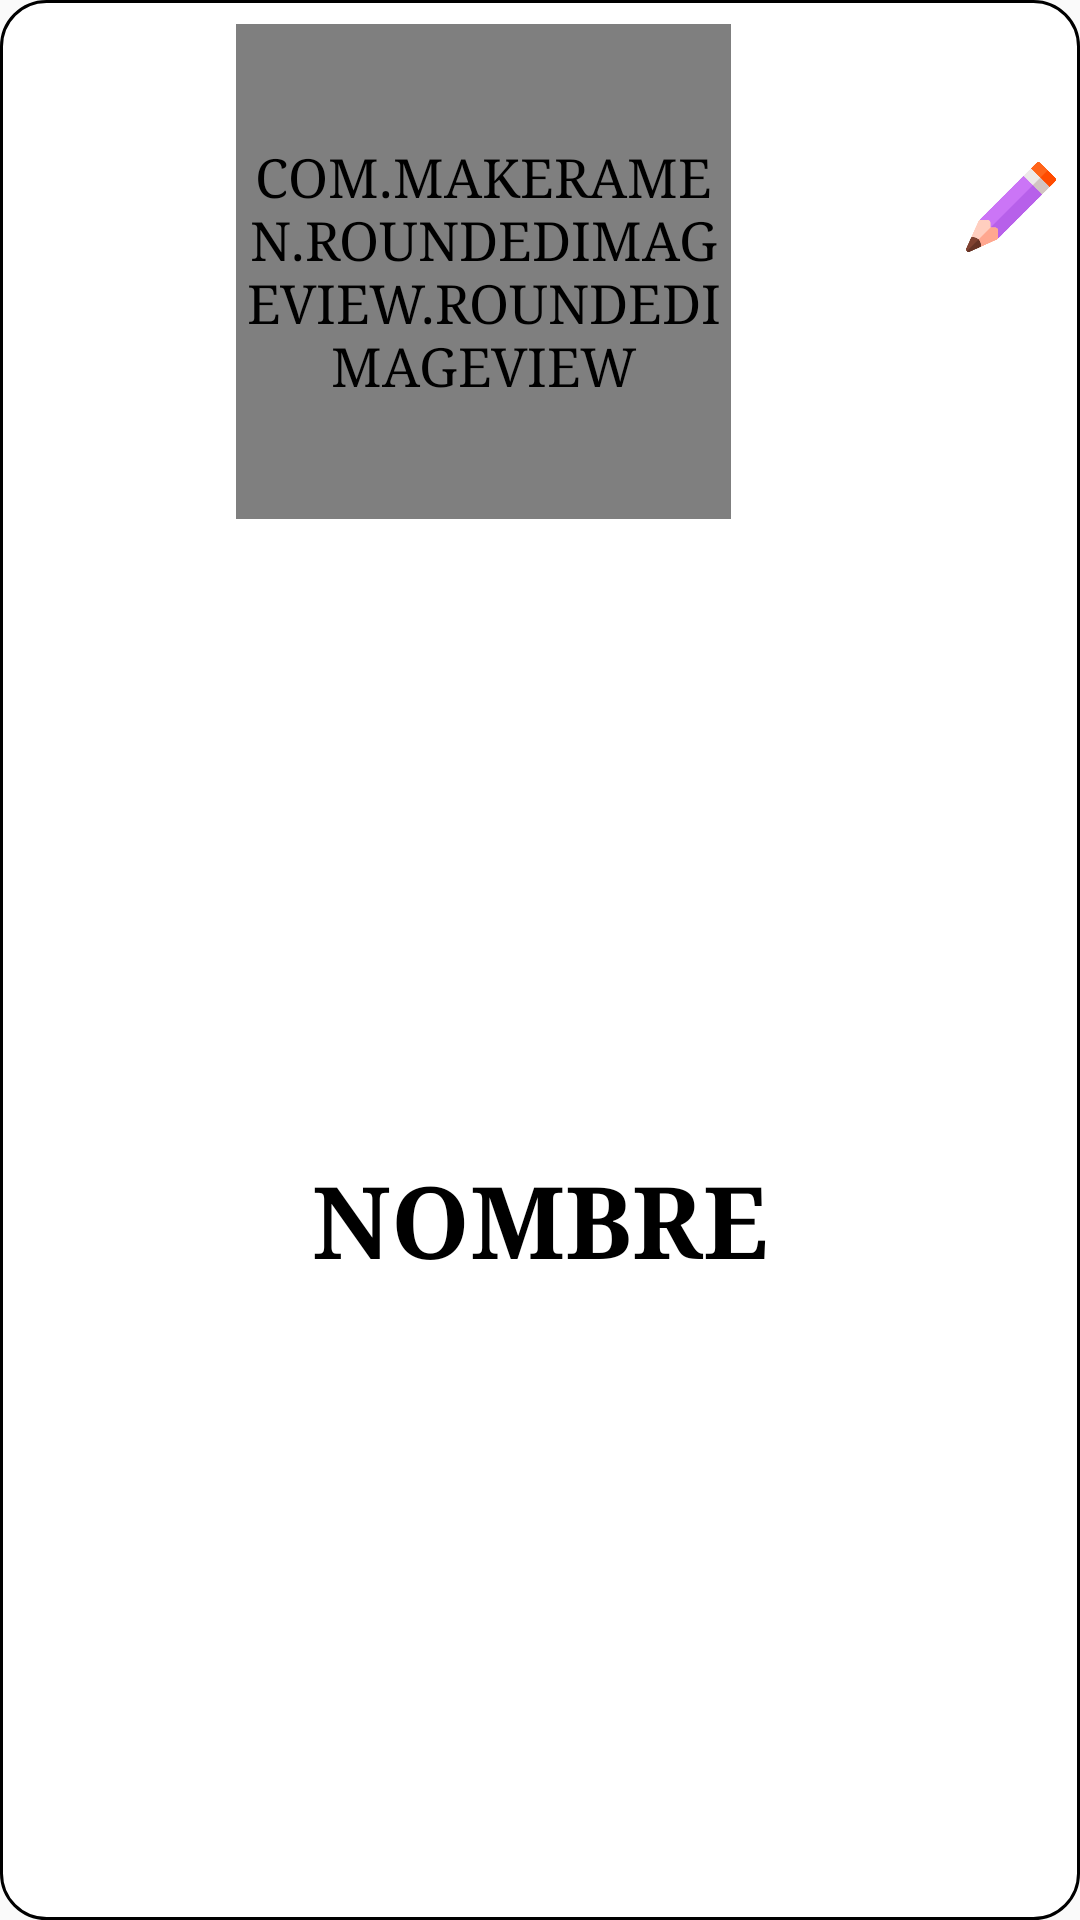

Named icons in this screenshot (1080*1920) and their bounding boxes, (x1, y1, x2, y2):
editar: (966, 162, 1056, 252)
